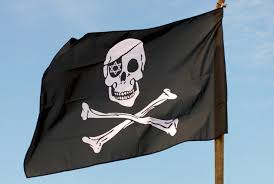Jolly Roger Flag: (27, 10, 230, 175)
